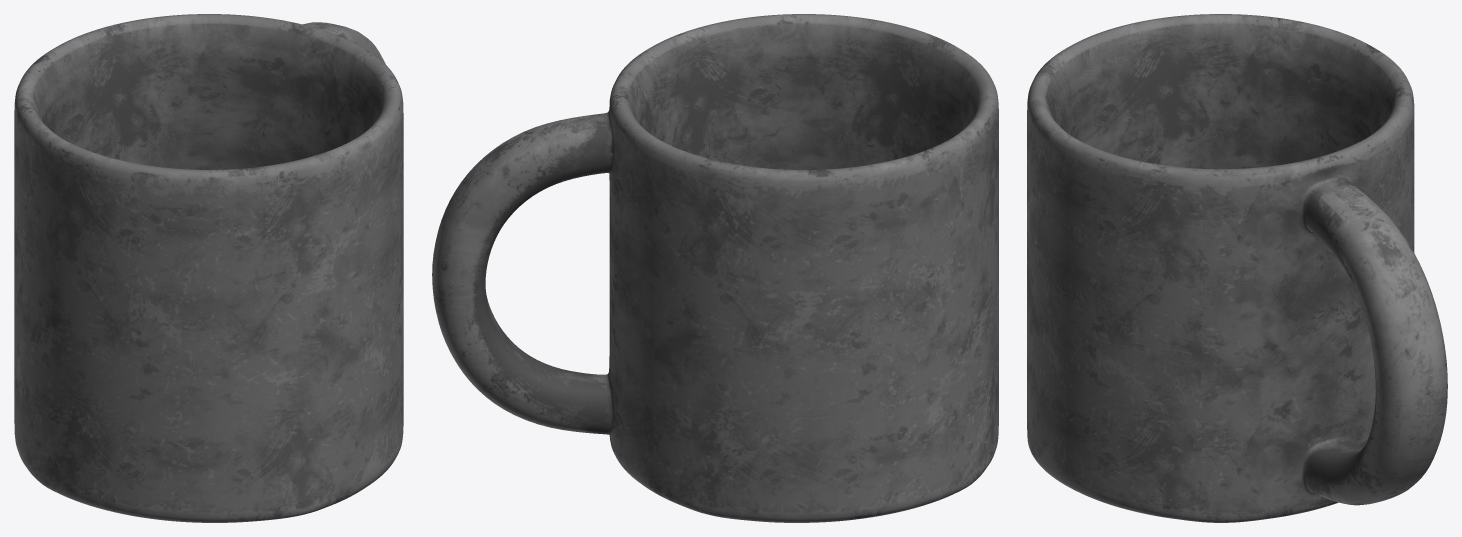
Rendered from cup.glb.
3 renders of one model, left to right at view 1: azimuth 30°, elevation 25°; view 2: azimuth 150°, elevation 25°; view 3: azimuth 270°, elevation 25°, orthographic.
Parts seen in each view (by area): view 1: Cylinder; view 2: Cylinder; view 3: Cylinder.
Boxes of the visible parts, x1,y1,x2,y2 form: Cylinder: (14, 14, 403, 522); Cylinder: (432, 14, 998, 522); Cylinder: (1027, 14, 1447, 522).
Size of the model in its own units: 0.4969 by 0.3757 by 0.4079.
1 material, 1 textured.
